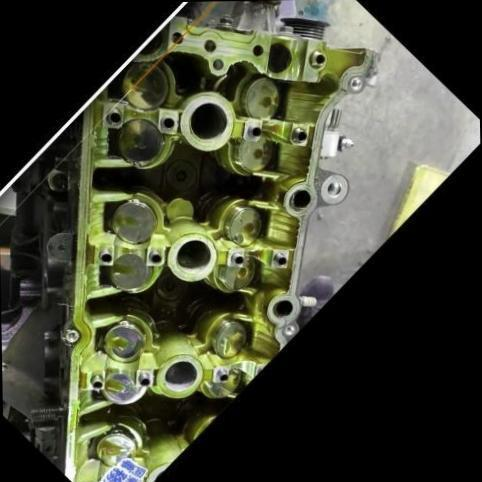hole: (198, 32, 222, 56), (61, 323, 84, 345), (324, 177, 346, 198), (249, 40, 268, 58), (211, 54, 229, 73), (348, 74, 365, 91), (283, 320, 300, 336), (2, 359, 11, 374)
